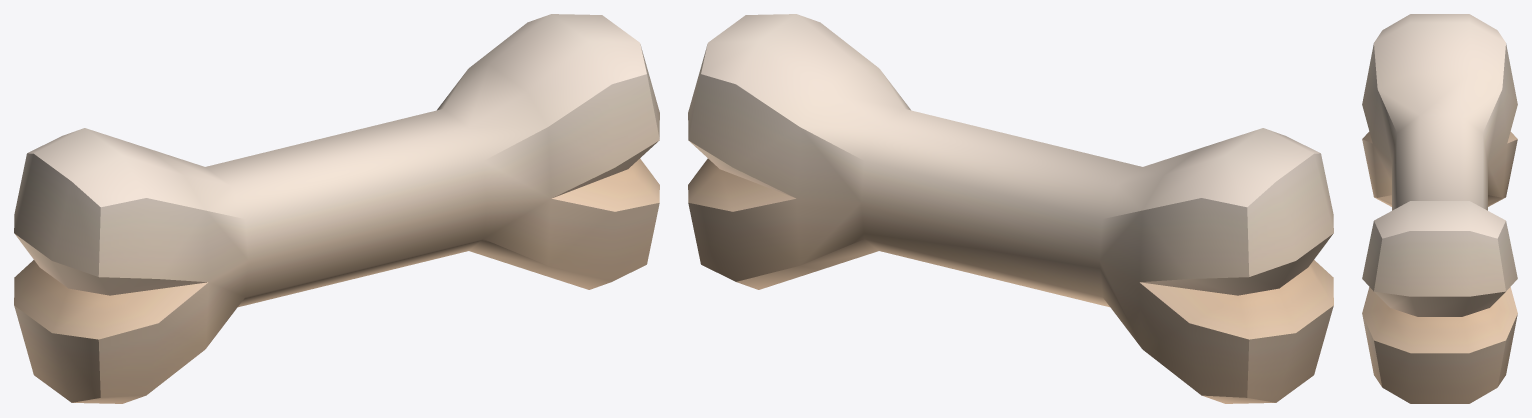
File: bone_A.glb
3 renders of one model, left to right at view 1: azimuth 30°, elevation 25°; view 2: azimuth 150°, elevation 25°; view 3: azimuth 270°, elevation 25°, orthographic. The views are drawn at different scales.
Parts seen in each view (by area): view 1: bone_A; view 2: bone_A; view 3: bone_A.
Part boxes in pixels (bbox=[...]): bone_A: bbox=[14, 14, 659, 403]; bone_A: bbox=[688, 14, 1333, 403]; bone_A: bbox=[1362, 14, 1517, 403].
Size of the model in its own units: 0.707 by 0.2761 by 0.2007.
Materials: 1 (1 with a texture image).
